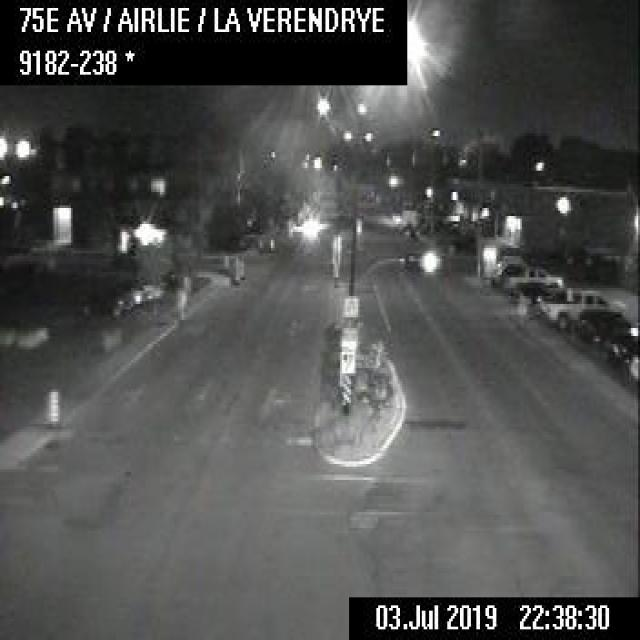construction: (47, 384, 60, 427), (231, 252, 240, 282), (238, 252, 244, 278), (268, 233, 273, 250)
vehicle: (537, 282, 624, 327), (501, 261, 563, 289)
